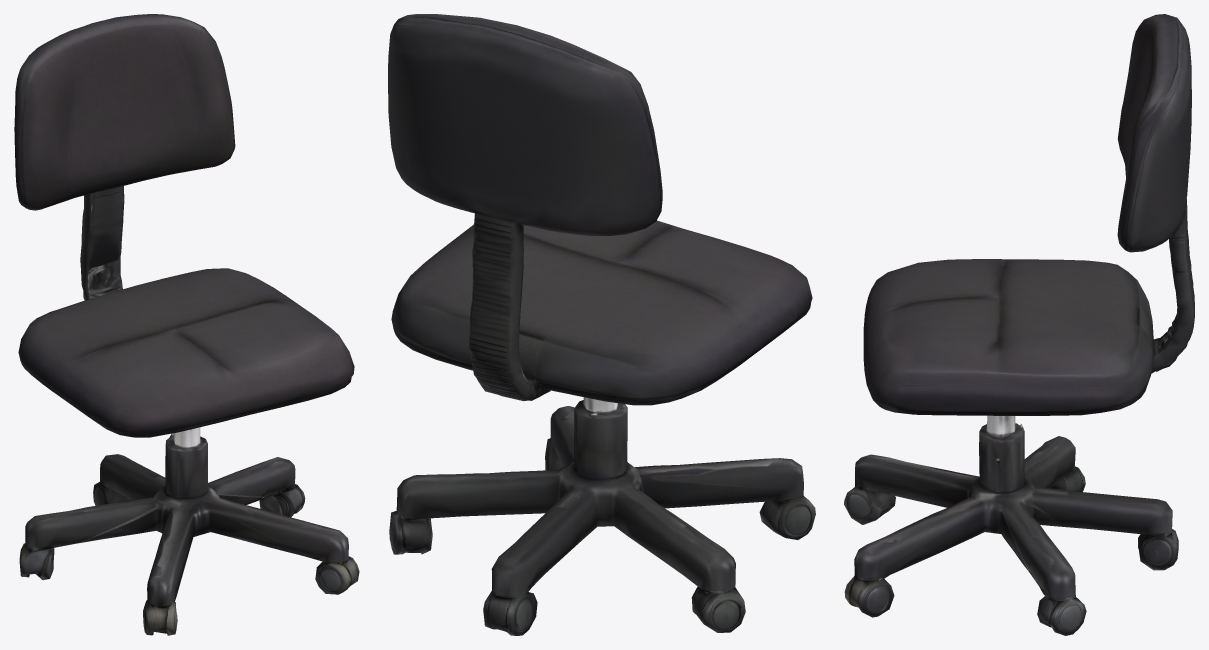
File: office_chair_modern.glb
3 views of the same model, side by side, from view 1: azimuth 30°, elevation 25°; view 2: azimuth 150°, elevation 25°; view 3: azimuth 270°, elevation 25° (orthographic). The views are drawn at different scales.
Size of the model in its own units: 1.22 by 2 by 1.21.
Materials: 1 (1 with a texture image).
